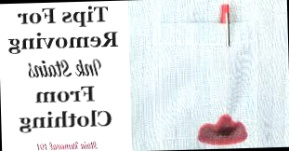ink: (196, 117, 248, 144)
